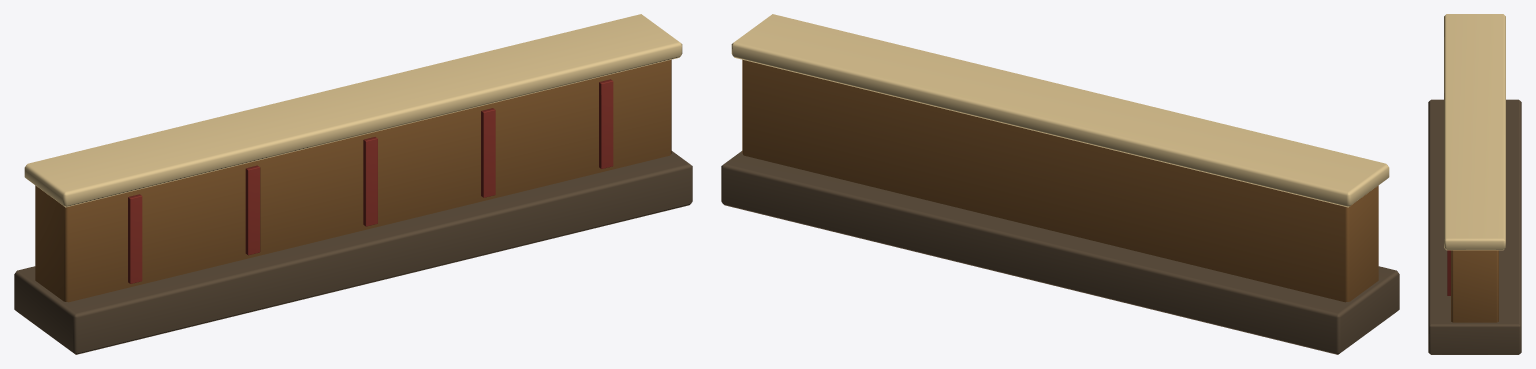
Rendered from speedway_county_pit_wall.glb.
The picture shows the model from 3 angles, left to right: view 1: azimuth 30°, elevation 25°; view 2: azimuth 150°, elevation 25°; view 3: azimuth 270°, elevation 25°; orthographic projection. The views are drawn at different scales.
Visible parts, largest first — view 1: Pit wall base; view 2: Pit wall base; view 3: Pit wall base.
Boxes of the visible parts, x1,y1,x2,y2 form: Pit wall base: (14,14,692,354); Pit wall base: (721,14,1399,354); Pit wall base: (1428,14,1521,354).
Bounding box in the file's own units: 5 × 1.2 × 0.87.
